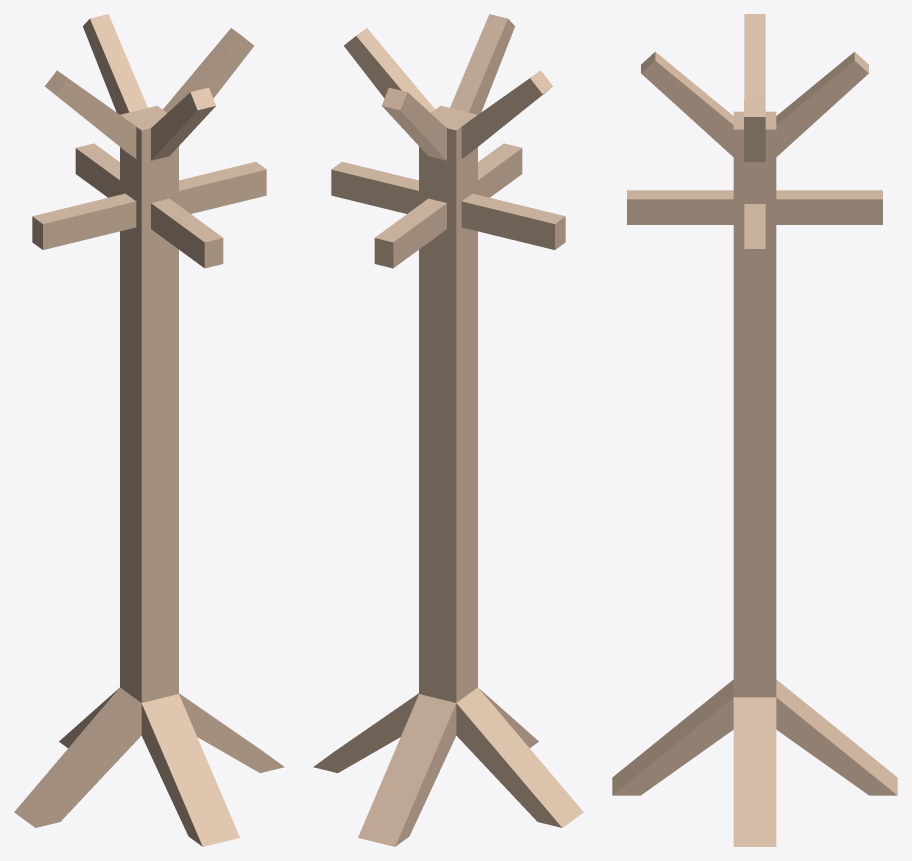
The model's file is coat_rack.glb.
The picture shows the model from 3 angles, left to right: view 1: azimuth 30°, elevation 25°; view 2: azimuth 150°, elevation 25°; view 3: azimuth 270°, elevation 25°; orthographic projection.
Visible parts, largest first — view 1: coatRackStanding(Clone); view 2: coatRackStanding(Clone); view 3: coatRackStanding(Clone).
Boxes of the visible parts, x1,y1,x2,y2 form: coatRackStanding(Clone): (14,14,284,846); coatRackStanding(Clone): (313,14,583,846); coatRackStanding(Clone): (612,14,897,846).
Bounding box in the file's own units: 0.5729 × 1.62 × 0.5729.
